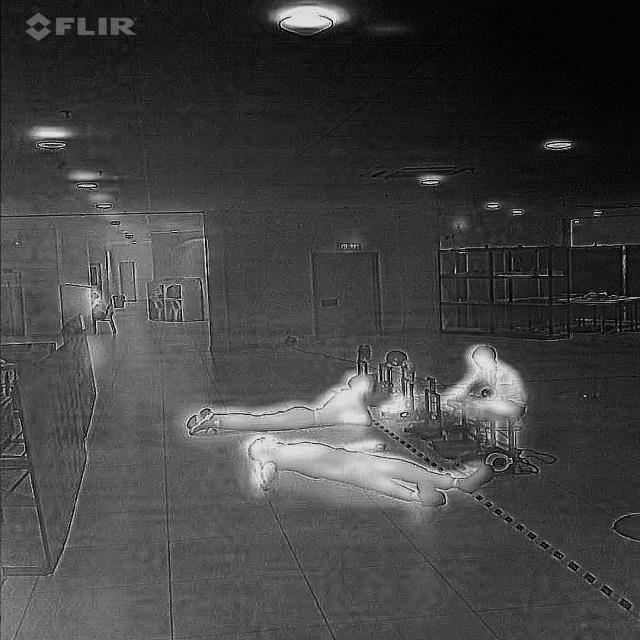Victim: (240, 432, 507, 527), (187, 371, 377, 436), (443, 333, 534, 428)
